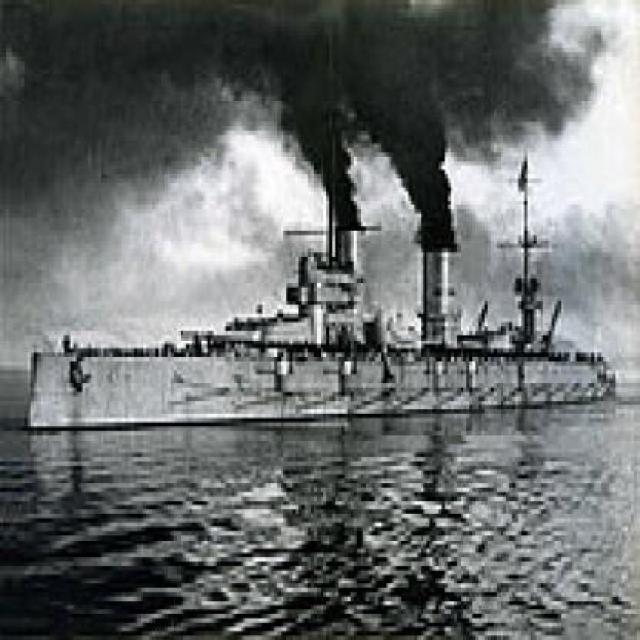warship2: (23, 136, 623, 441)
